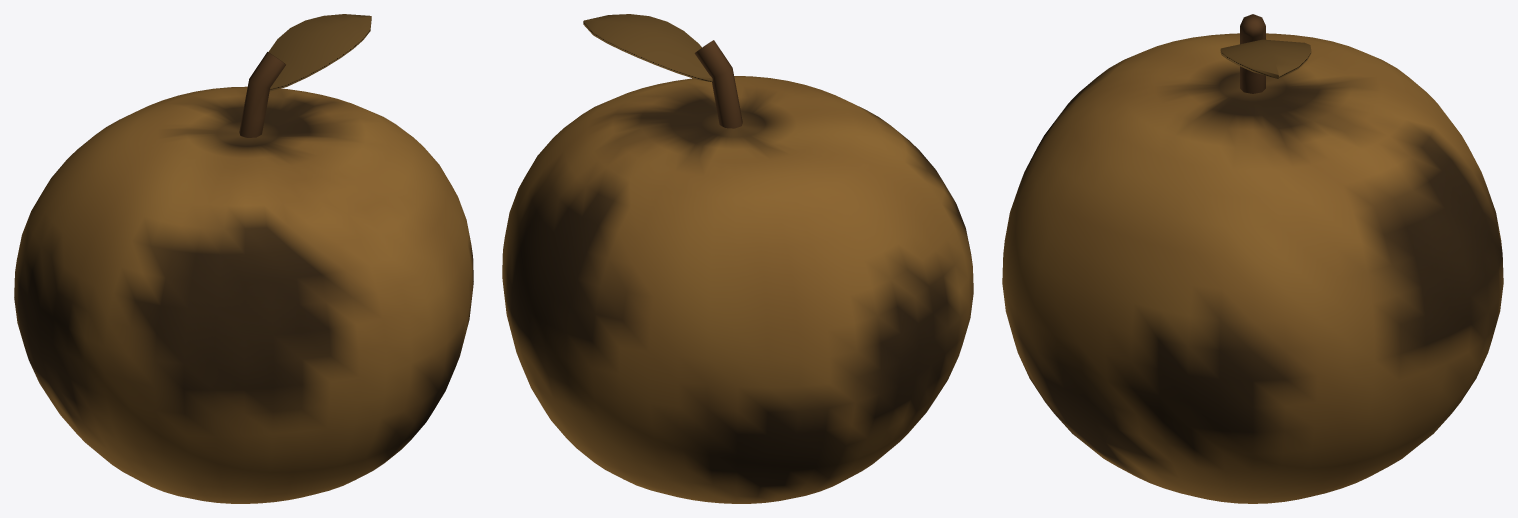
Rendered from omena-mata-v2.glb.
3 renders of one model, left to right at view 1: azimuth 30°, elevation 25°; view 2: azimuth 150°, elevation 25°; view 3: azimuth 270°, elevation 25°, orthographic. The views are drawn at different scales.
Parts seen in each view (by area): view 1: fruit, leaf, stem; view 2: fruit, leaf, stem; view 3: fruit, leaf, stem.
Part boxes in pixels (<box>): fruit: <box>14,86,473,503</box>; leaf: <box>268,14,371,91</box>; stem: <box>239,52,285,137</box>; fruit: <box>502,76,973,503</box>; leaf: <box>583,14,712,82</box>; stem: <box>694,40,742,128</box>; fruit: <box>1002,33,1503,503</box>; leaf: <box>1220,39,1311,78</box>; stem: <box>1240,14,1265,93</box>.
Bounding box in the file's own units: 0.14 × 0.1408 × 0.1353.
